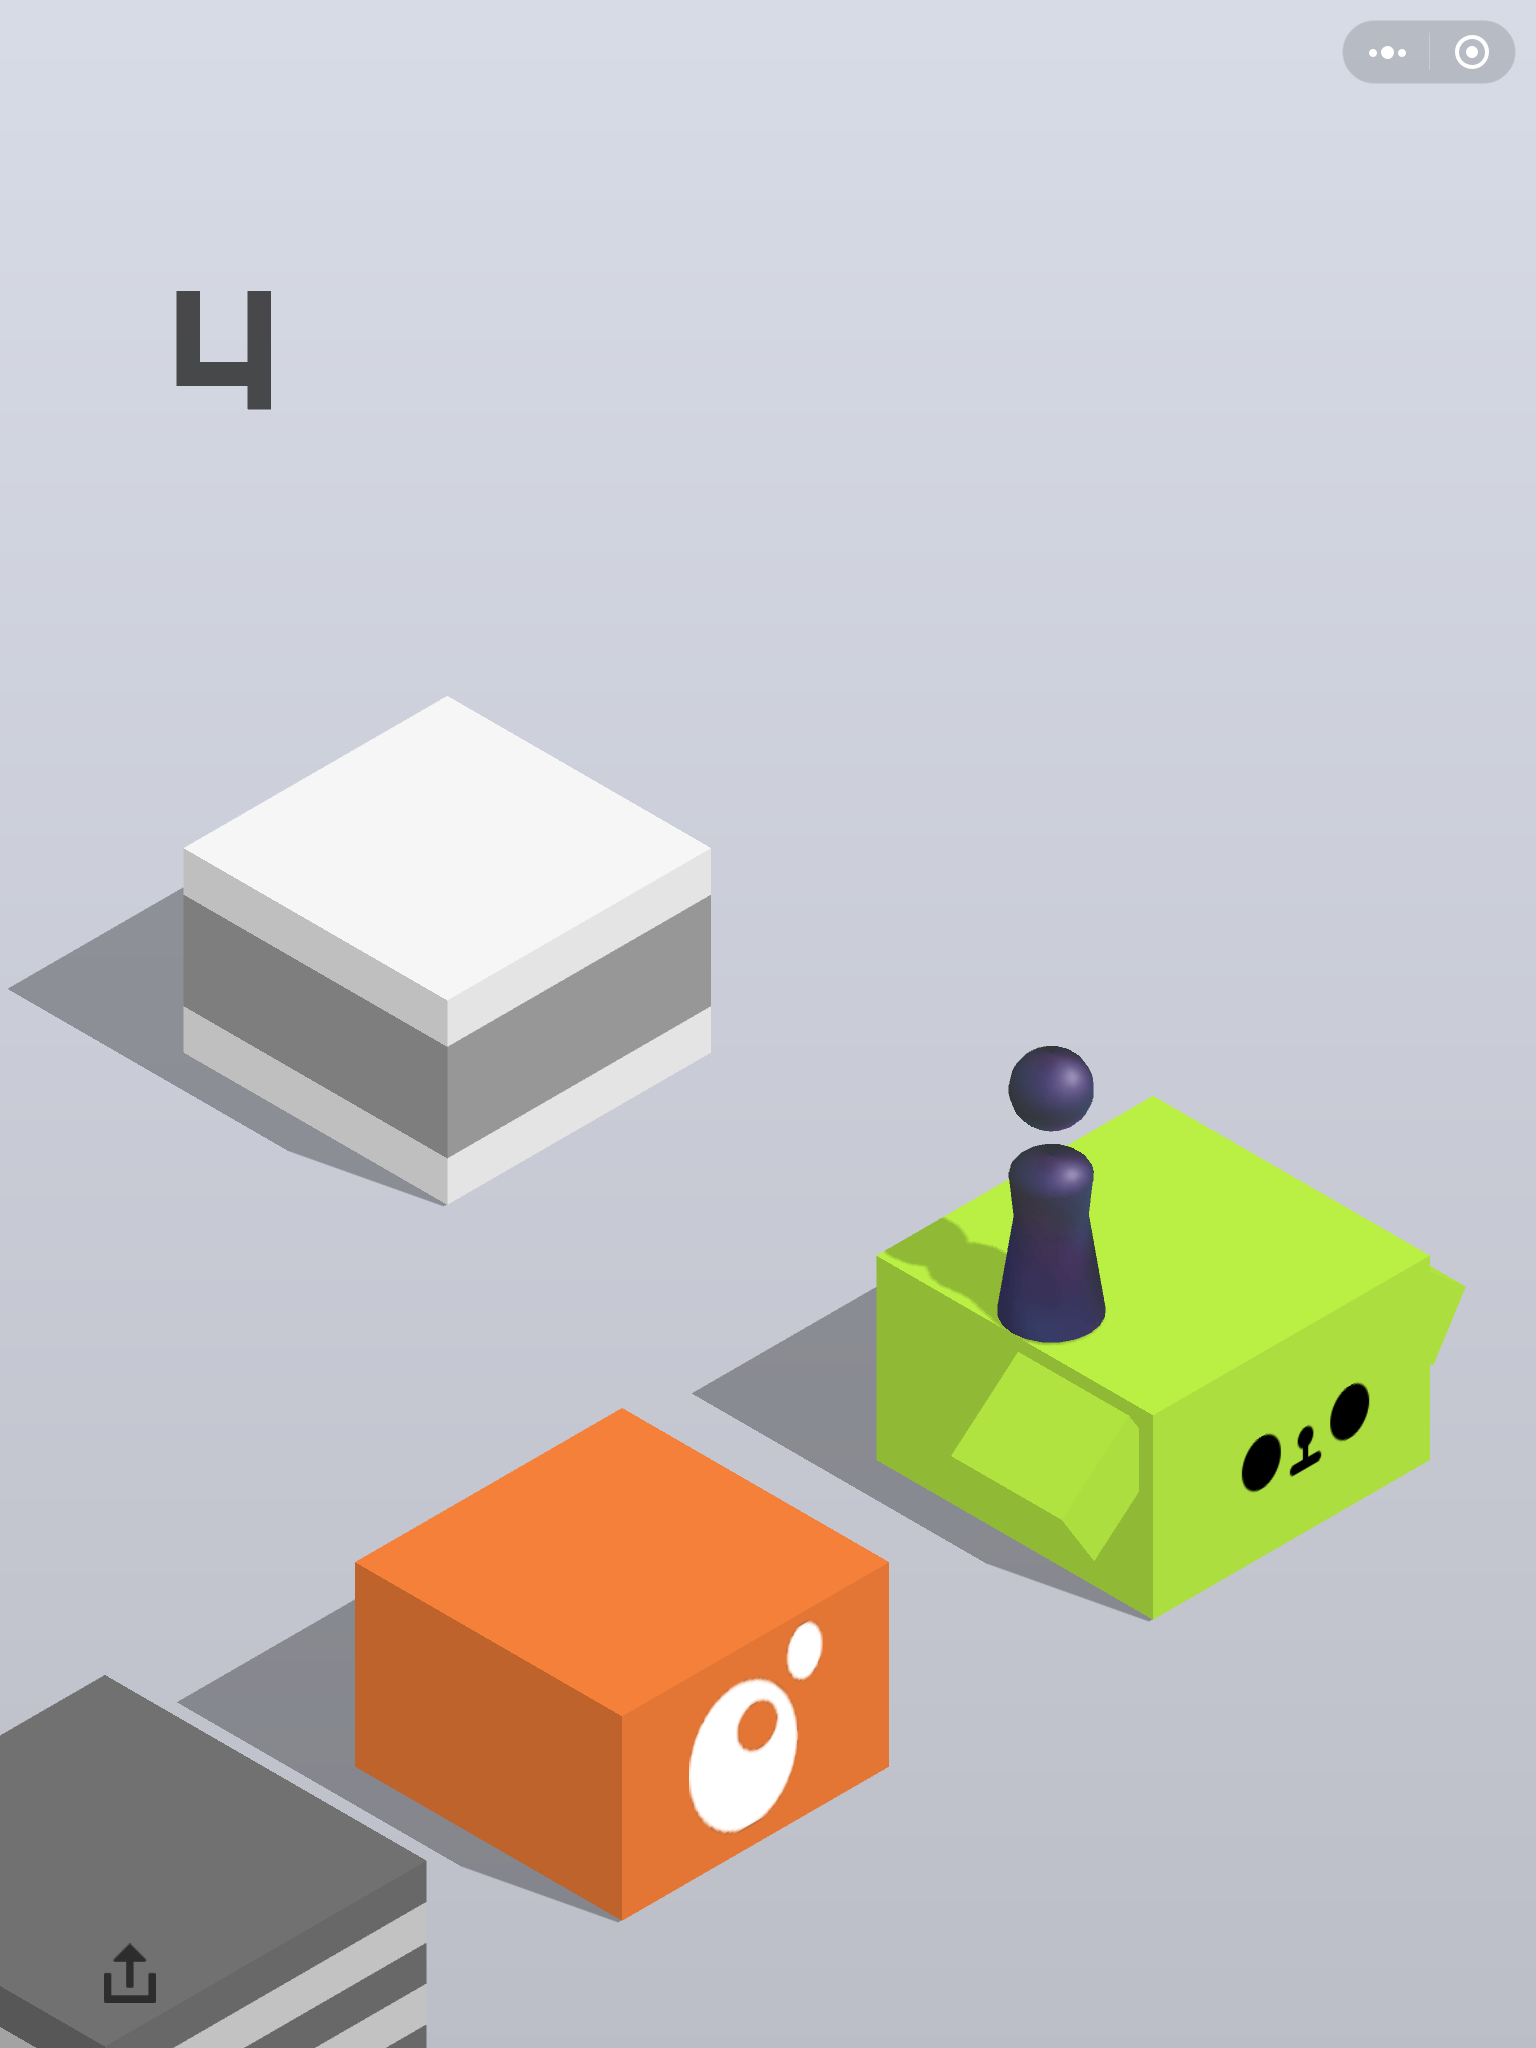f: (871, 1093, 1454, 1622), (352, 1403, 899, 1930), (177, 692, 721, 1213), (2, 1666, 437, 2045)
r: (992, 1040, 1112, 1343)
